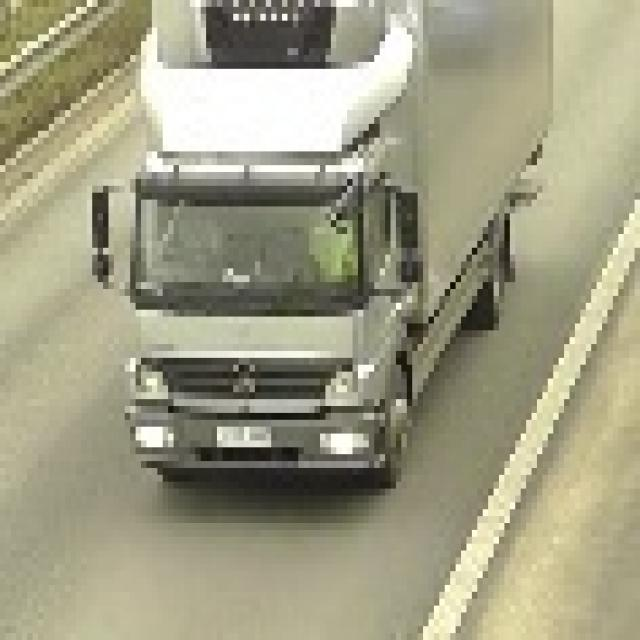truck: (87, 0, 548, 489)
